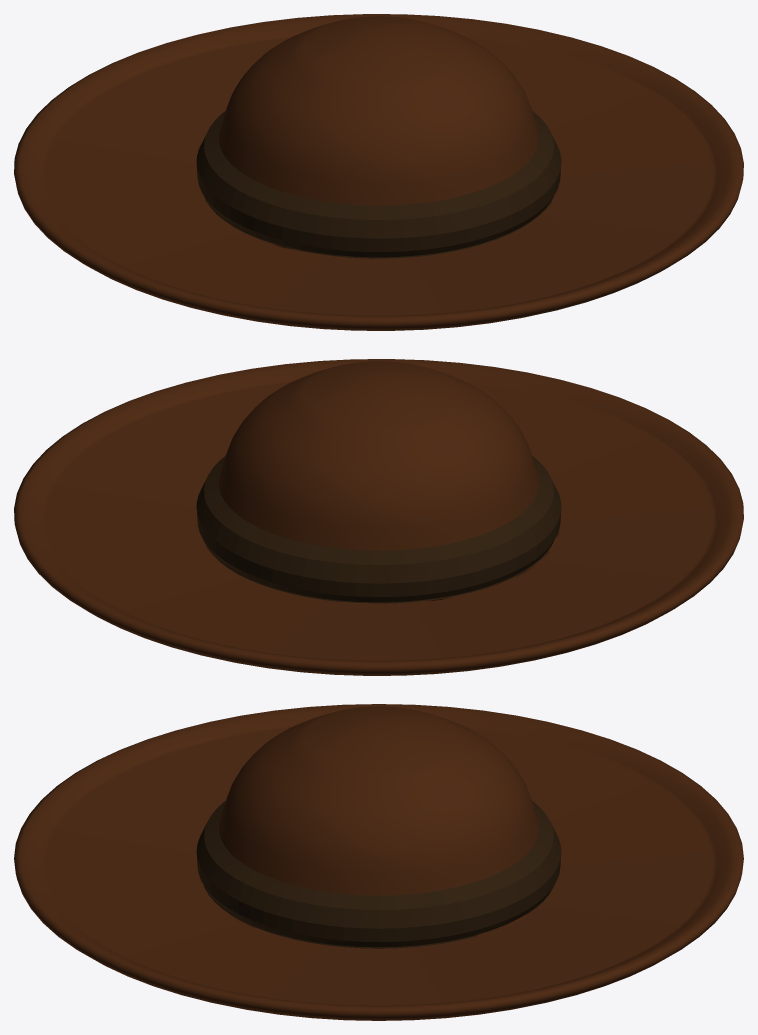
The model's file is hat.fbx.
The picture shows the model from 3 angles, top to bottom: view 1: azimuth 30°, elevation 25°; view 2: azimuth 150°, elevation 25°; view 3: azimuth 270°, elevation 25°; orthographic projection.
Parts seen in each view (by area): view 1: Sphere; view 2: Sphere; view 3: Sphere.
Part boxes in pixels (<box>): Sphere: <box>14,14,743,330</box>; Sphere: <box>14,359,743,675</box>; Sphere: <box>14,704,743,1020</box>.
Size of the model in its own units: 2.39 by 2.39 by 0.5808.
